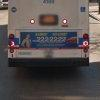Bus: (4, 3, 91, 73)
